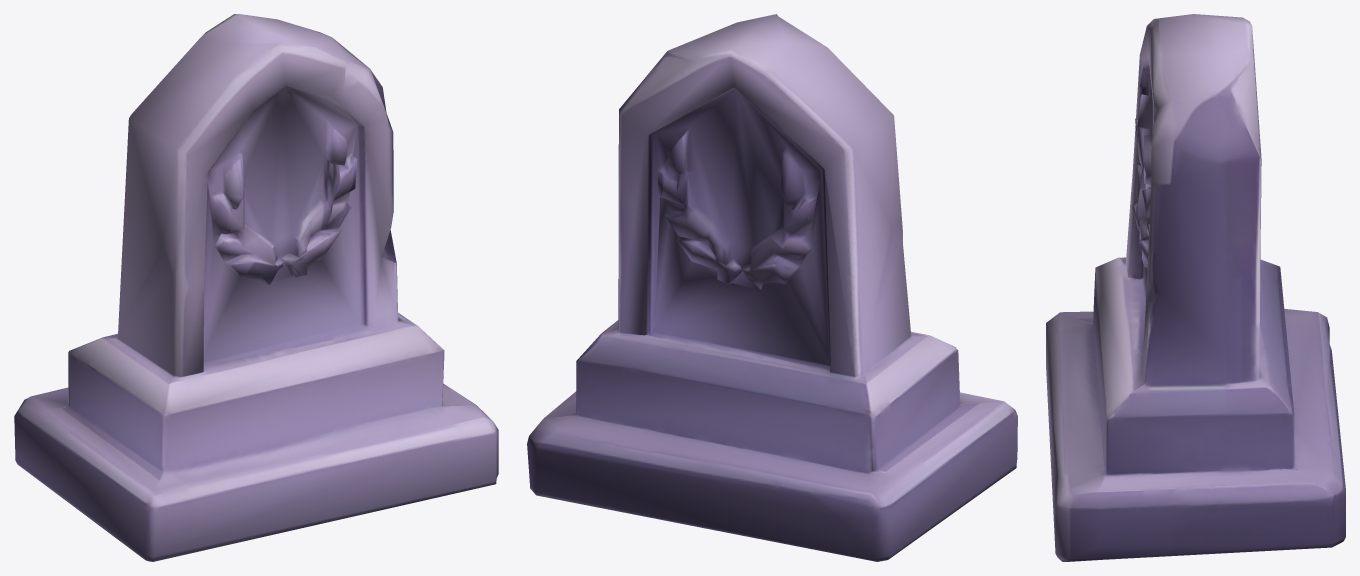
The picture shows the model from 3 angles, left to right: view 1: azimuth 30°, elevation 25°; view 2: azimuth 150°, elevation 25°; view 3: azimuth 270°, elevation 25°; orthographic projection. The views are drawn at different scales.
Visible parts, largest first — view 1: tower-tomb-1; view 2: tower-tomb-1; view 3: tower-tomb-1.
Boxes of the visible parts, x1,y1,x2,y2 form: tower-tomb-1: (14, 14, 498, 561); tower-tomb-1: (527, 14, 1017, 561); tower-tomb-1: (1046, 14, 1345, 561).
Size of the model in its own units: 0.3581 by 0.4227 by 0.2505.
1 material, 1 textured.
